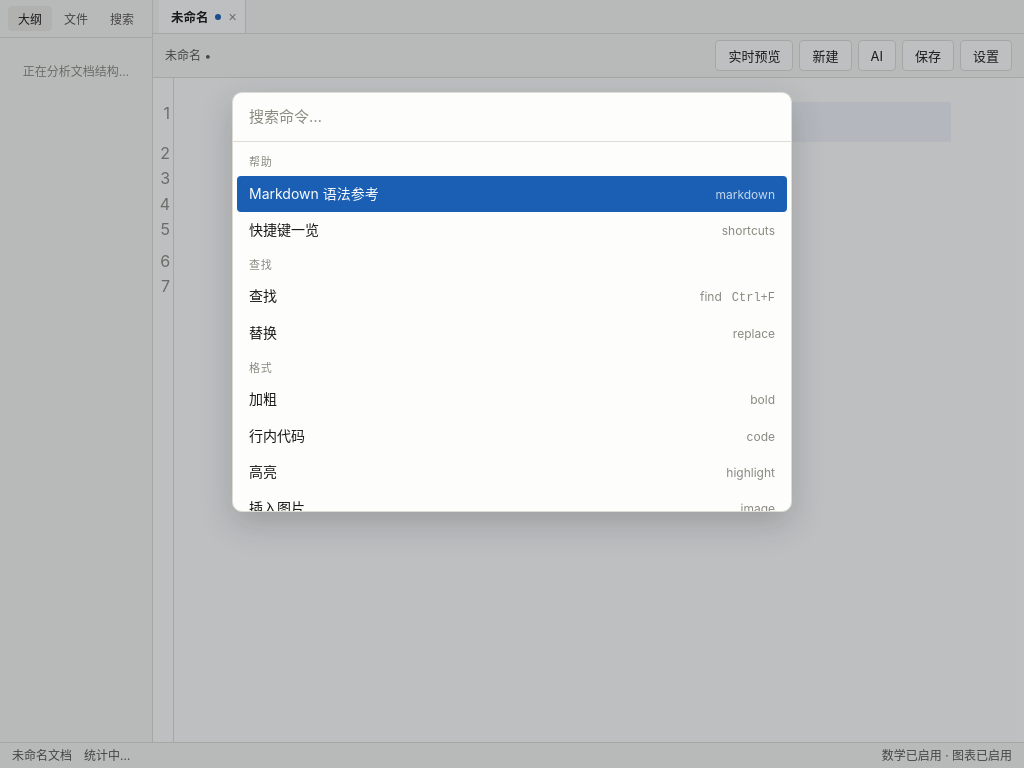
应用交互 › 从命令面板执行「替换」后，焦点落在替换框（面板关闭时不能把焦点抢回编辑器）
Click the button "替换 replace" at (754, 334), box [237,315,787,352]
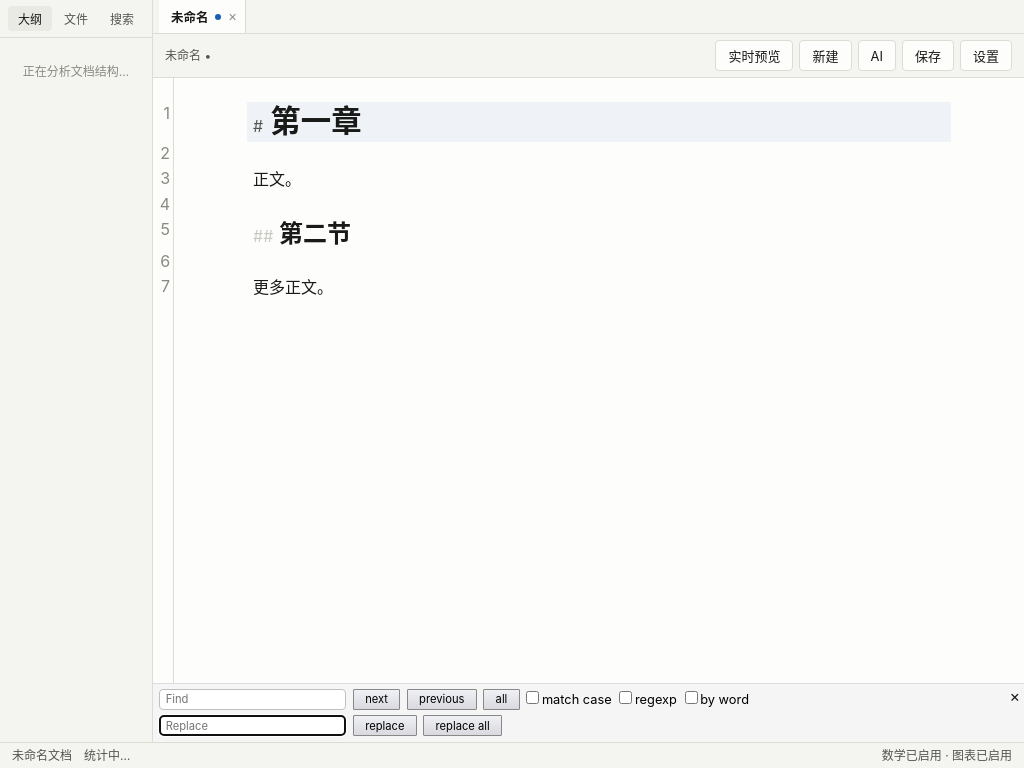
expect the field named "replace" is shown: met, box [159,715,346,736]
